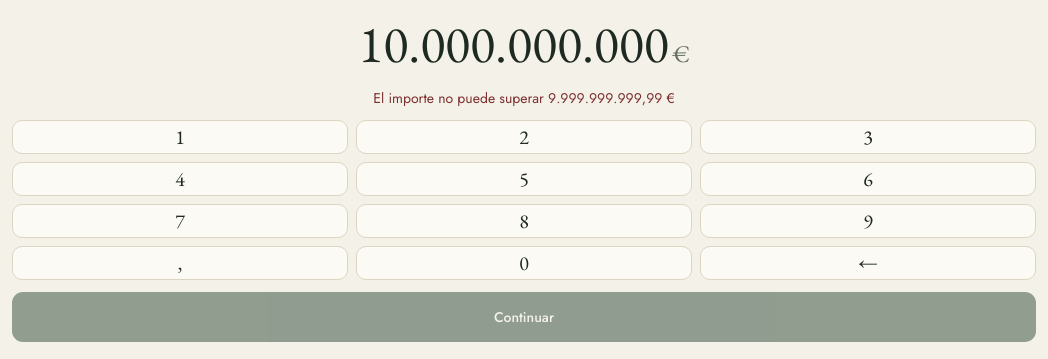
Test case: EntradaImporte › tope de la API (MAX_IMPORTE_CENTS) › el aviso desaparece al borrar hasta un importe válido
Expected: the message "El importe no puede superar 9.999.999.999,99 €" is shown, [373,88,675,108]
Click the button named "Borrar". click: (868, 263)
box: [700,246,1036,280]
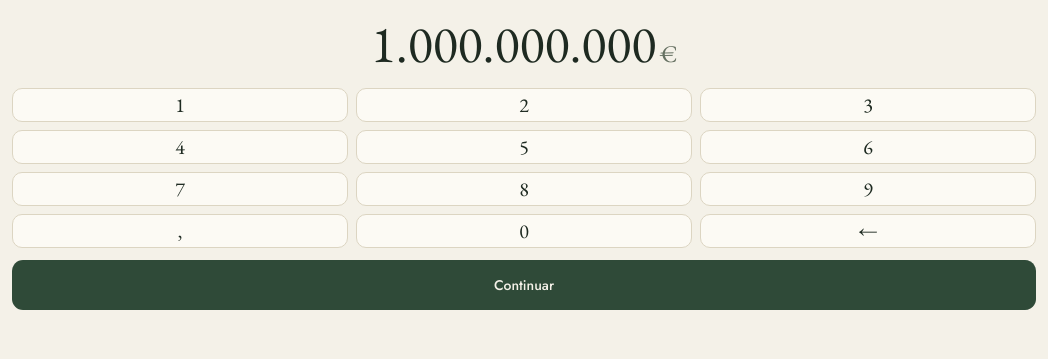
Expected: the message "El importe no puede superar 9.999.999.999,99 €" is gone
Expected: the button "Continuar" is enabled, [12,260,1036,310]
